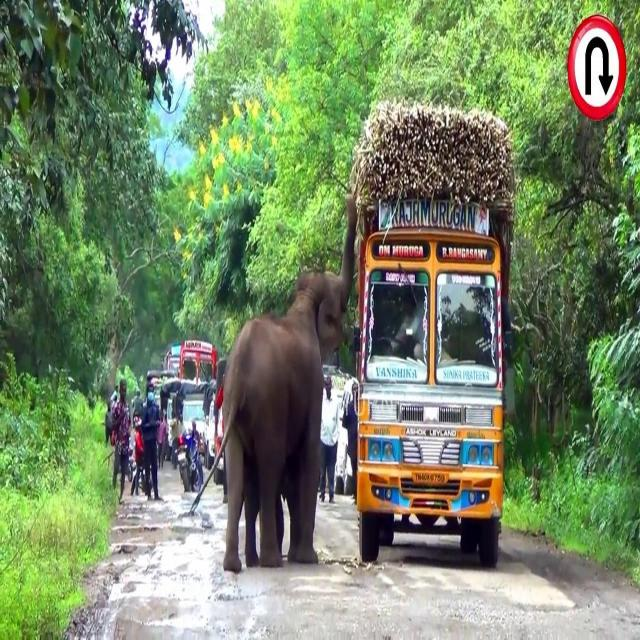Elephant: (218, 196, 358, 574)
